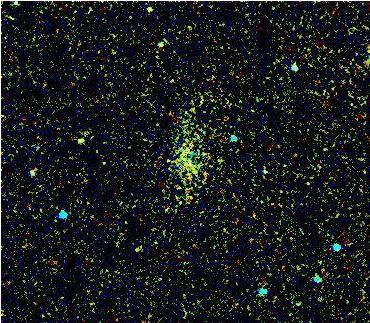star: (63, 128, 93, 158)
